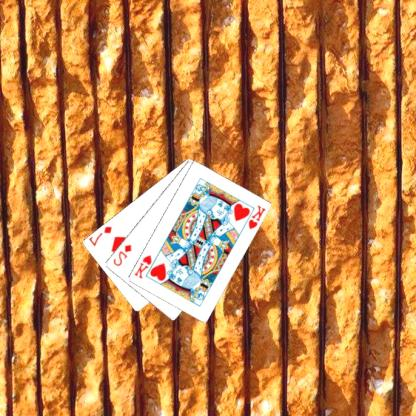2D: (112, 242, 135, 268)
7D: (88, 223, 114, 248)
KH: (132, 252, 154, 280), (247, 203, 268, 231)
